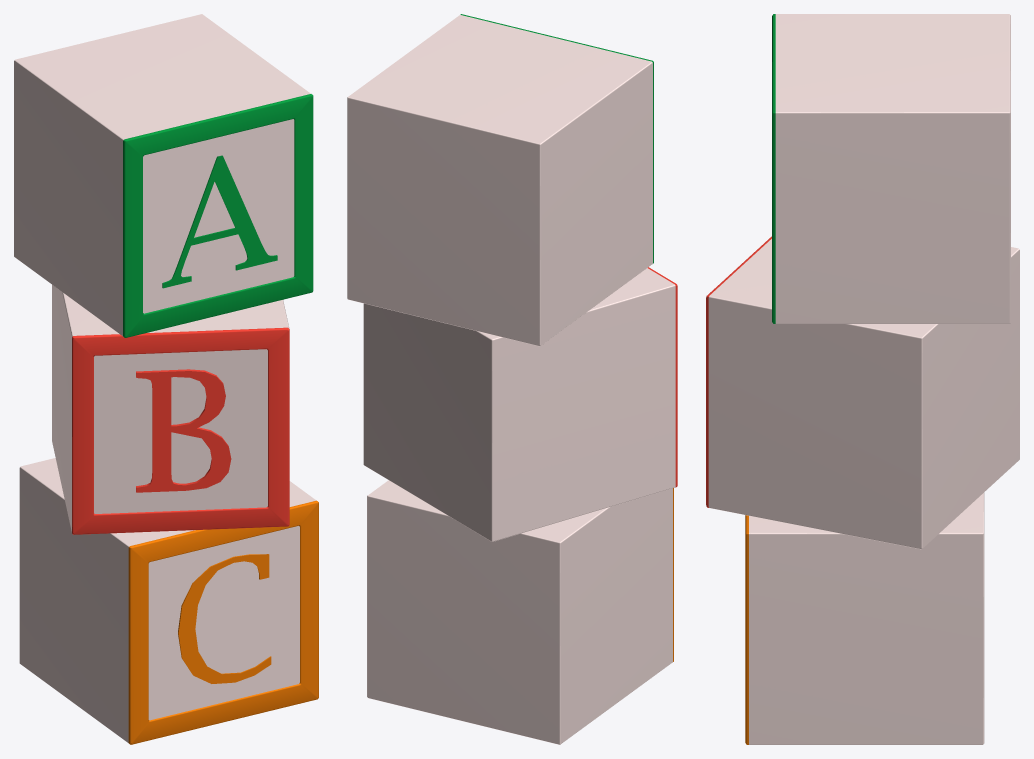
Rendered from Store_9_Toy_Cubes_set.glb.
3 views of the same model, side by side, from view 1: azimuth 30°, elevation 25°; view 2: azimuth 150°, elevation 25°; view 3: azimuth 270°, elevation 25° (orthographic). The views are drawn at different scales.
Visible parts, largest first — view 1: Store_9_Toy_Cubes_set; view 2: Store_9_Toy_Cubes_set; view 3: Store_9_Toy_Cubes_set.
Boxes of the visible parts, x1=… form: Store_9_Toy_Cubes_set: x1=14, y1=14, x2=318, y2=744; Store_9_Toy_Cubes_set: x1=347, y1=14, x2=677, y2=744; Store_9_Toy_Cubes_set: x1=706, y1=14, x2=1019, y2=744.
Size of the model in its own units: 1.5 by 3.38 by 1.51.
1 material, 1 textured.
